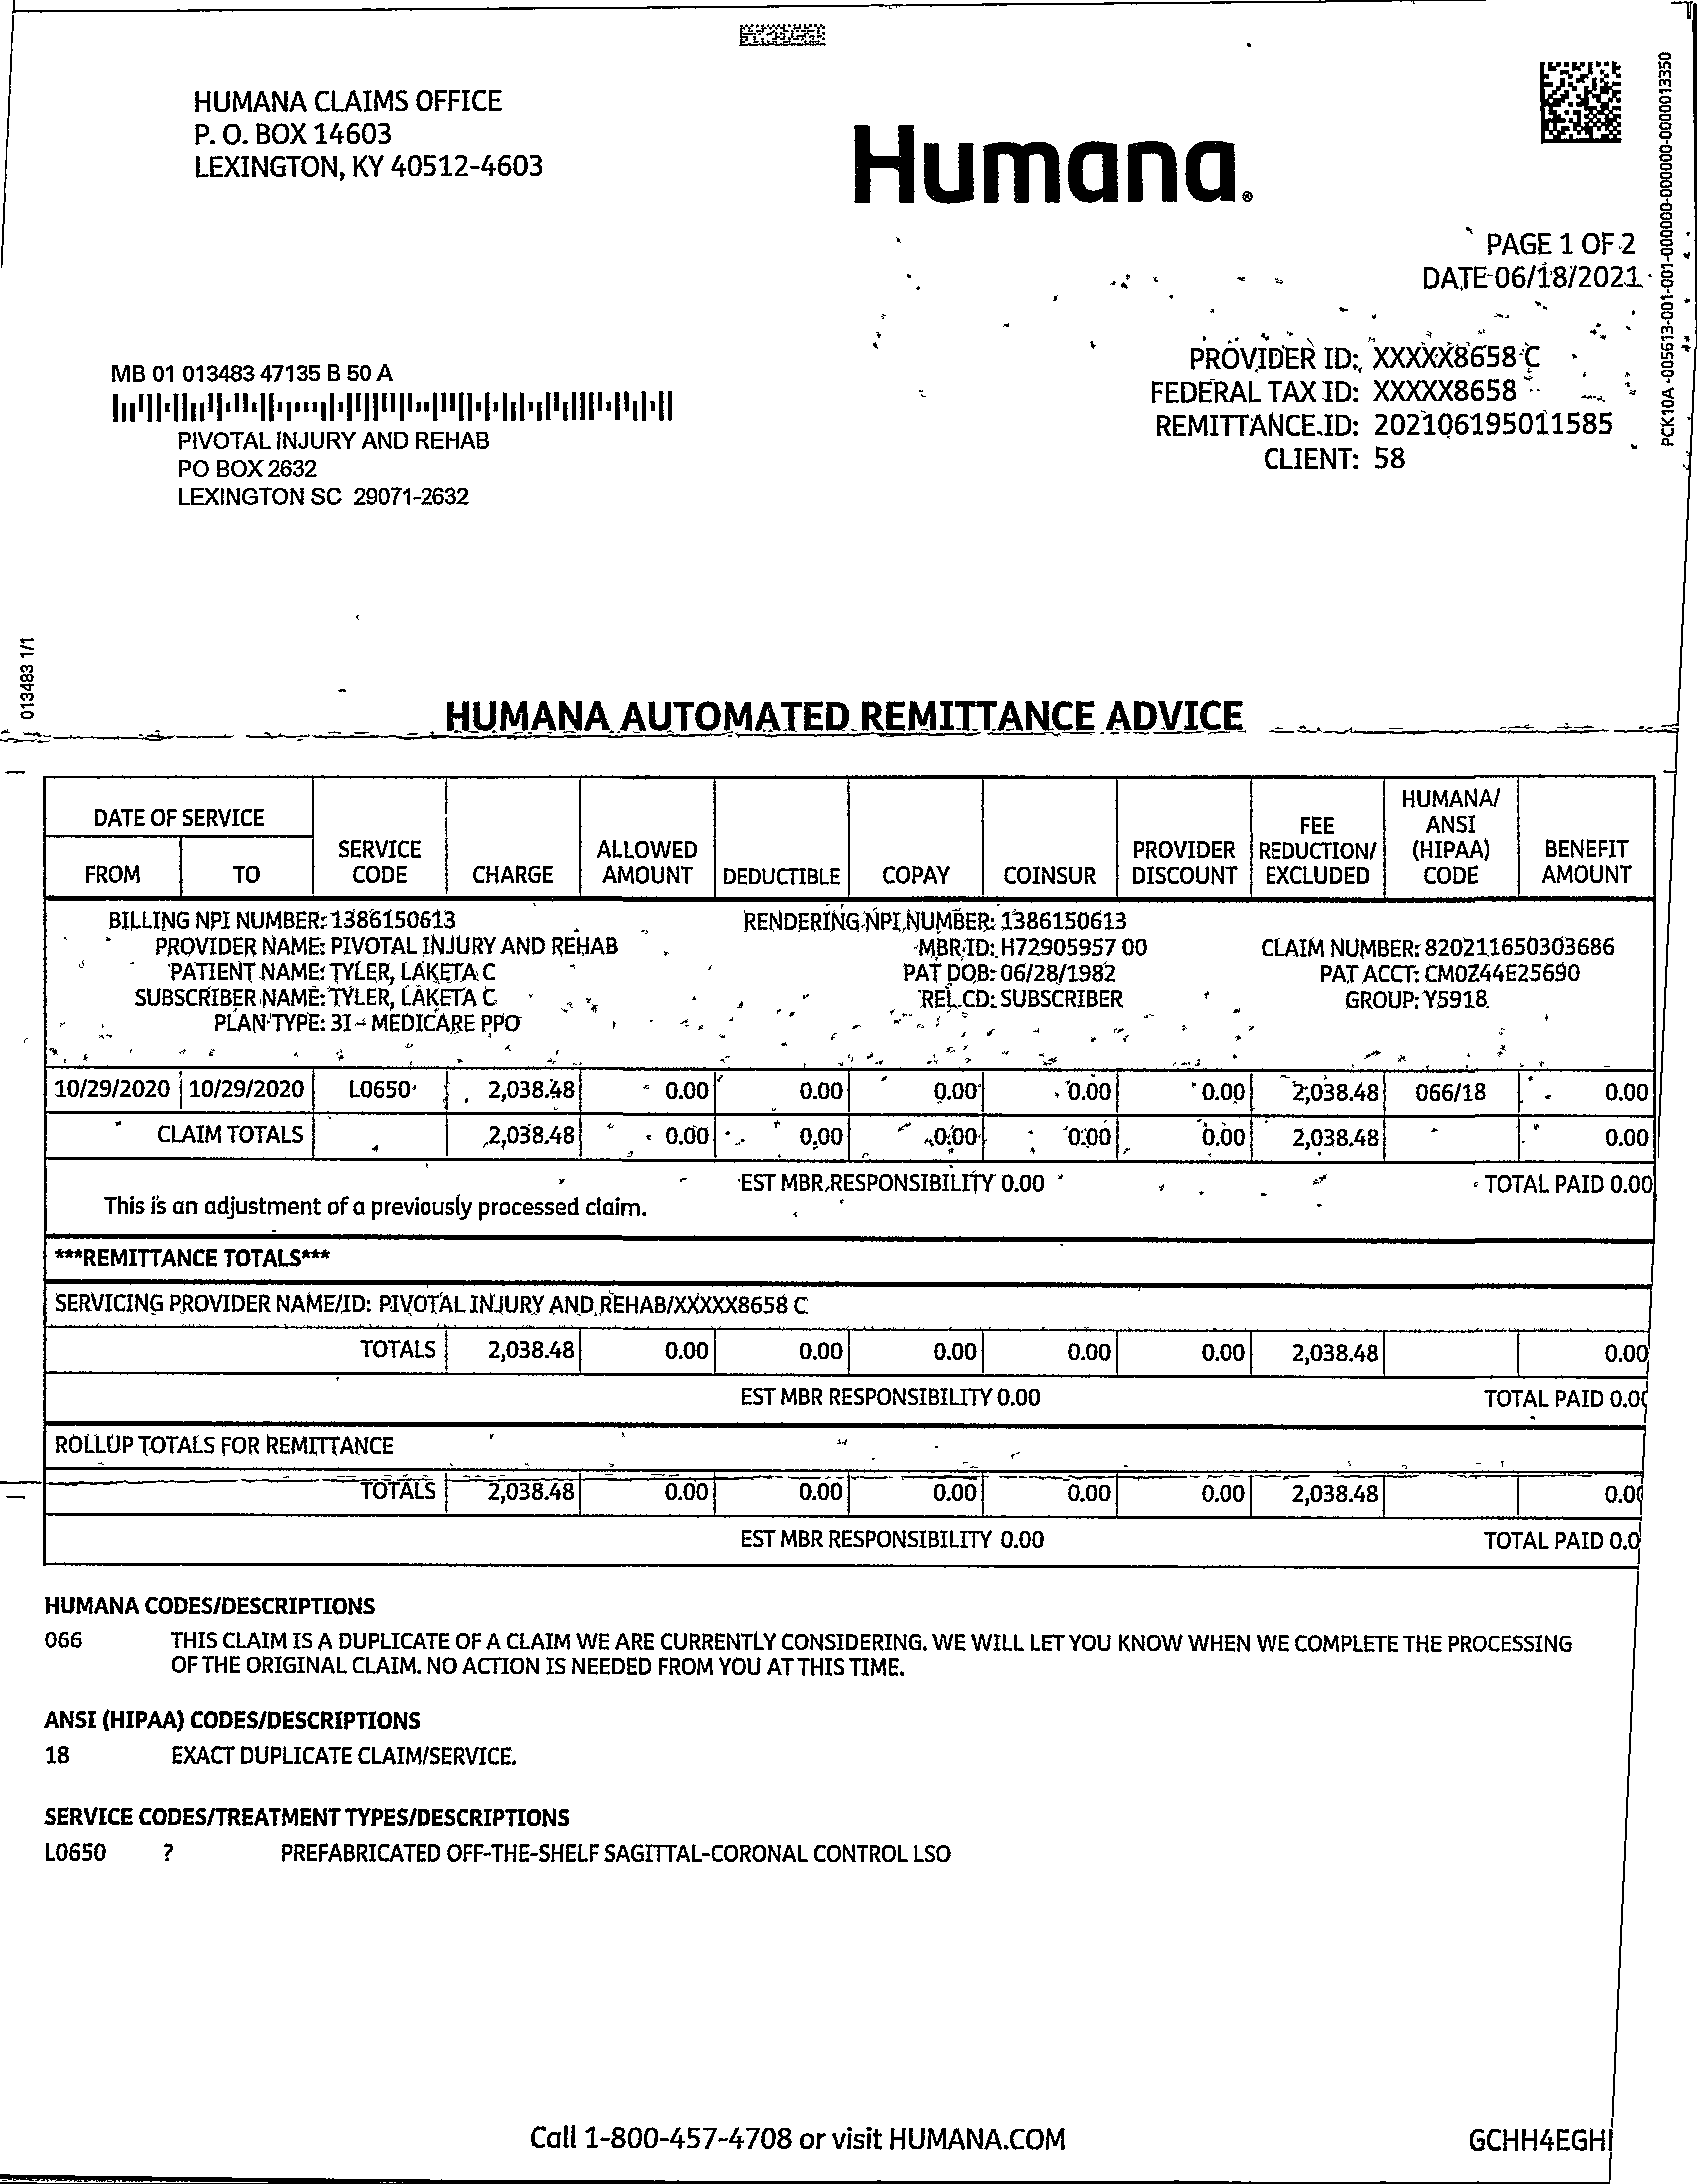data: (1132, 321, 1630, 516), (105, 899, 645, 1051), (732, 904, 1160, 1033), (1244, 915, 1630, 1035)
table: (35, 766, 1665, 1202)
